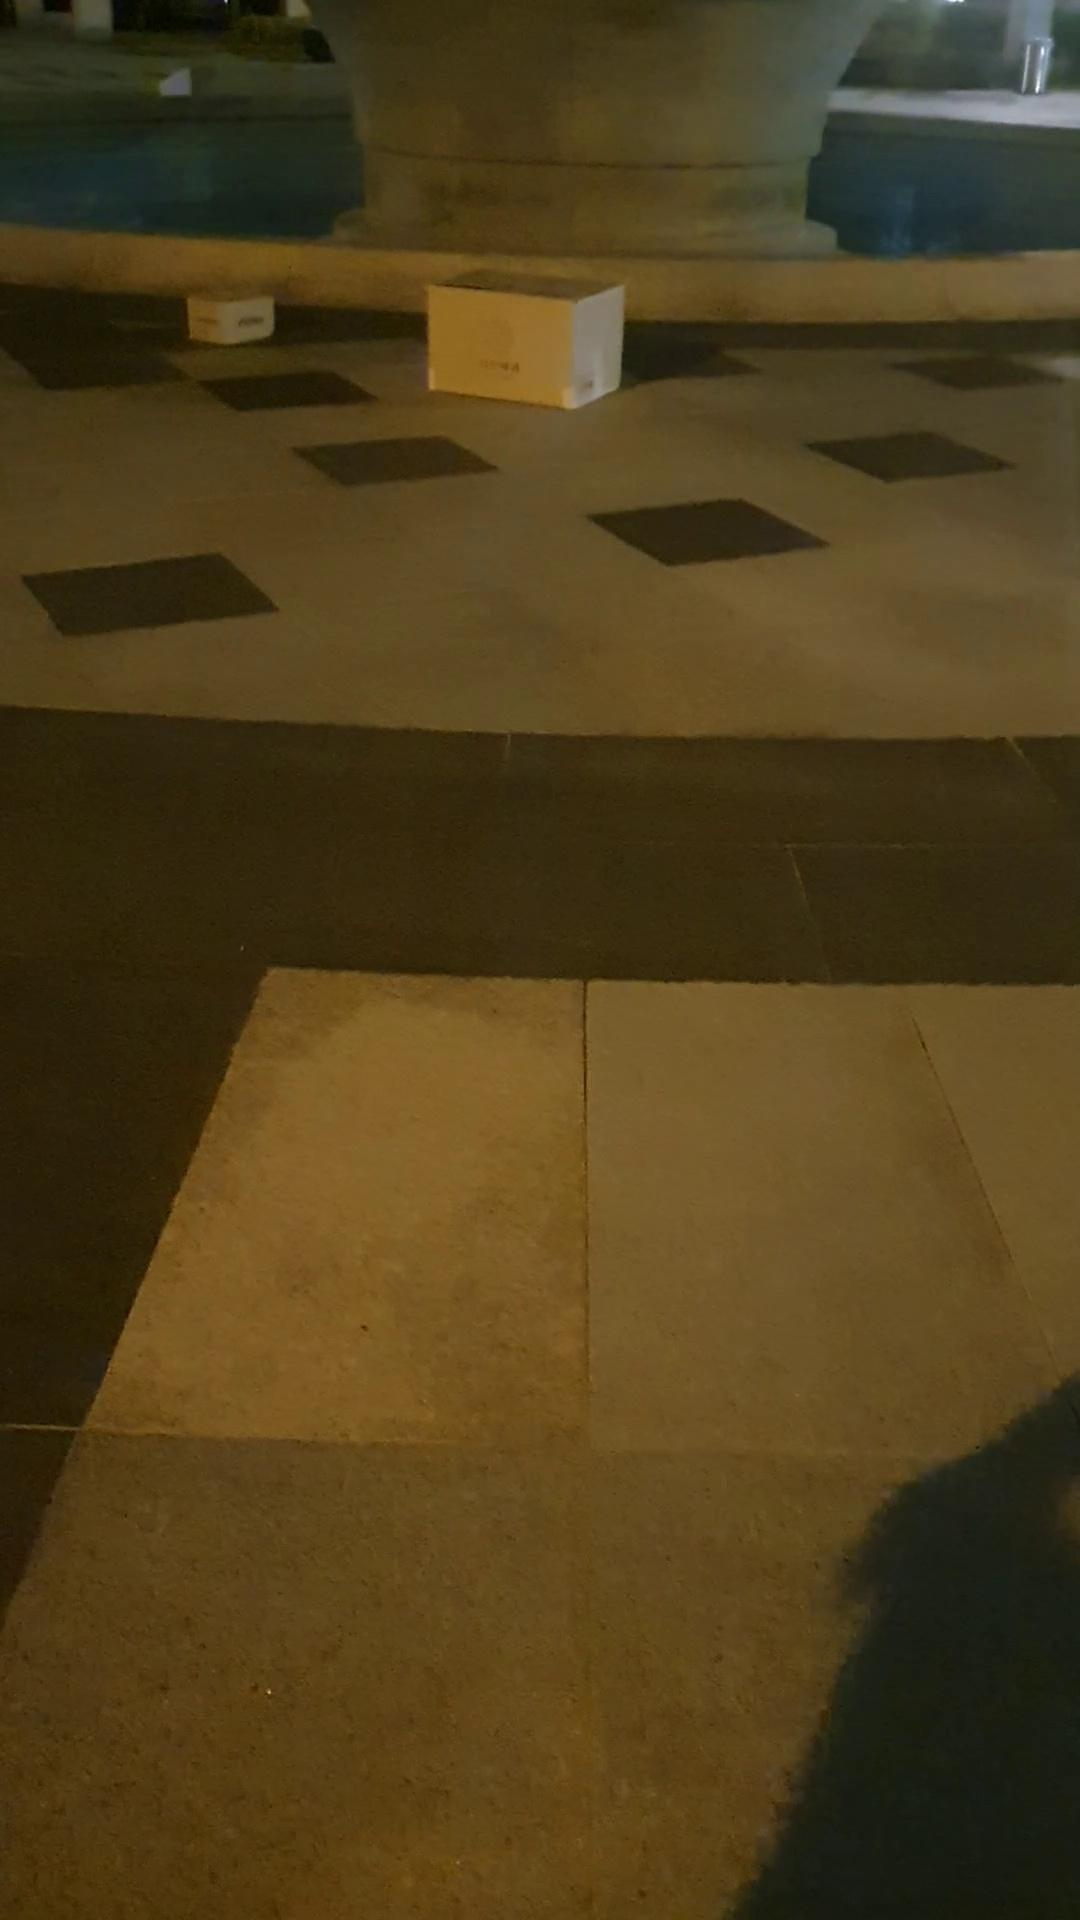Box: (406, 260, 636, 410), (178, 273, 280, 343)
